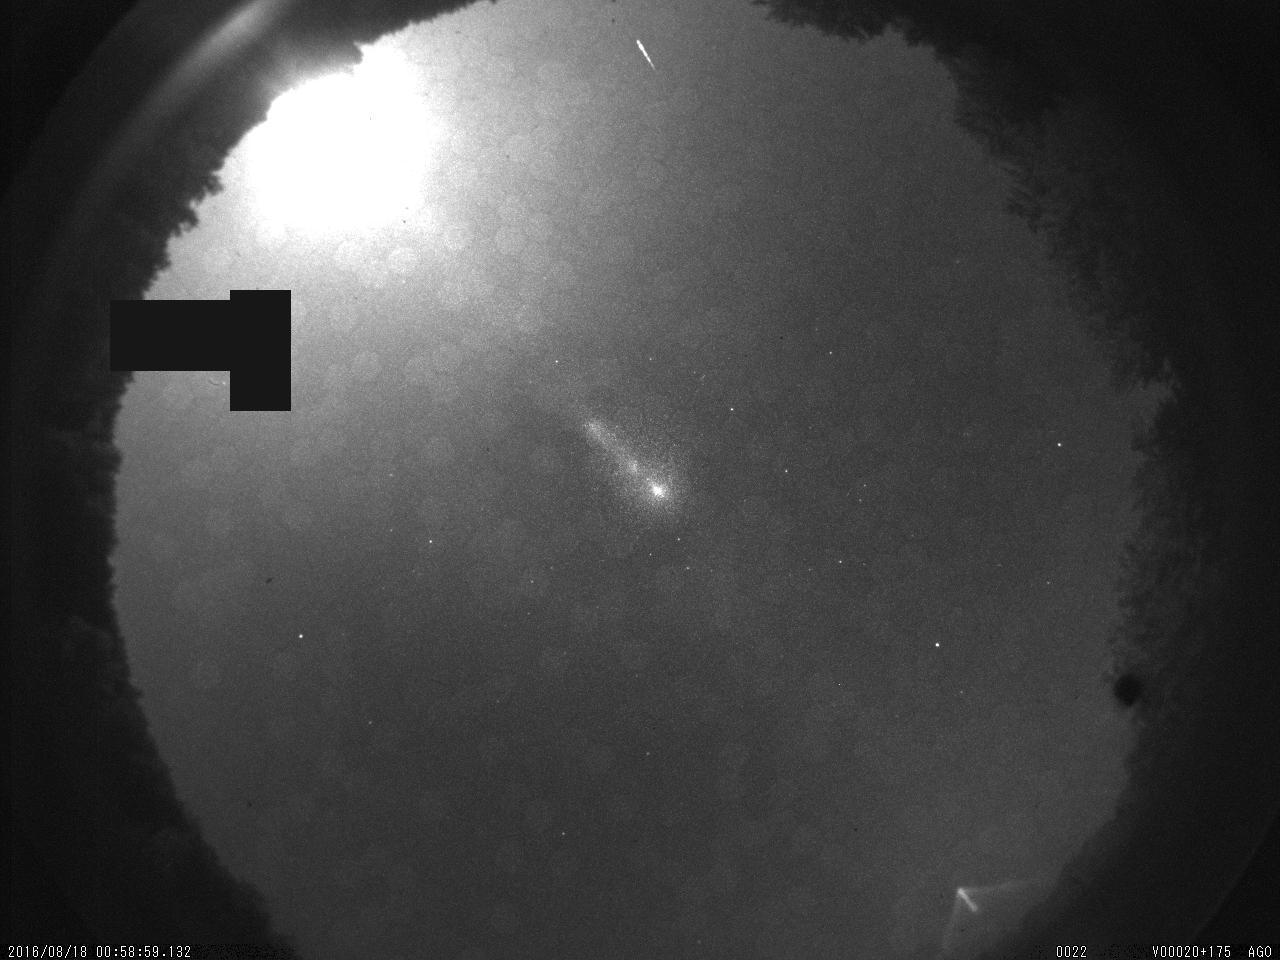Meteor: (631, 31, 662, 78)
